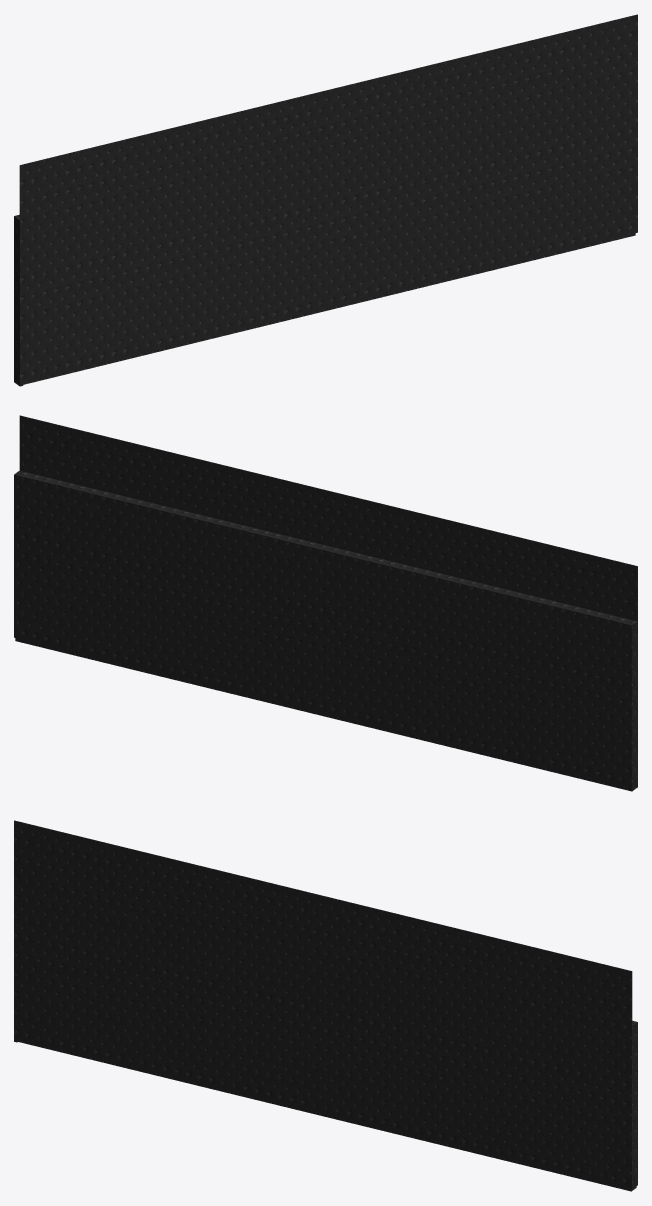
File: In Class 2025 - Special Wall.fbx
3 renders of one model, top to bottom at view 1: azimuth 30°, elevation 25°; view 2: azimuth 150°, elevation 25°; view 3: azimuth 330°, elevation 25°, orthographic.
Visible parts, largest first — view 1: Special Wall; view 2: Special Wall; view 3: Special Wall.
Boxes of the visible parts, <box> form: Special Wall: <box>14,14,637,386</box>; Special Wall: <box>14,415,637,791</box>; Special Wall: <box>14,820,637,1191</box>.
Size of the model in its own units: 421 by 7 by 144.
1 material, 1 textured.
